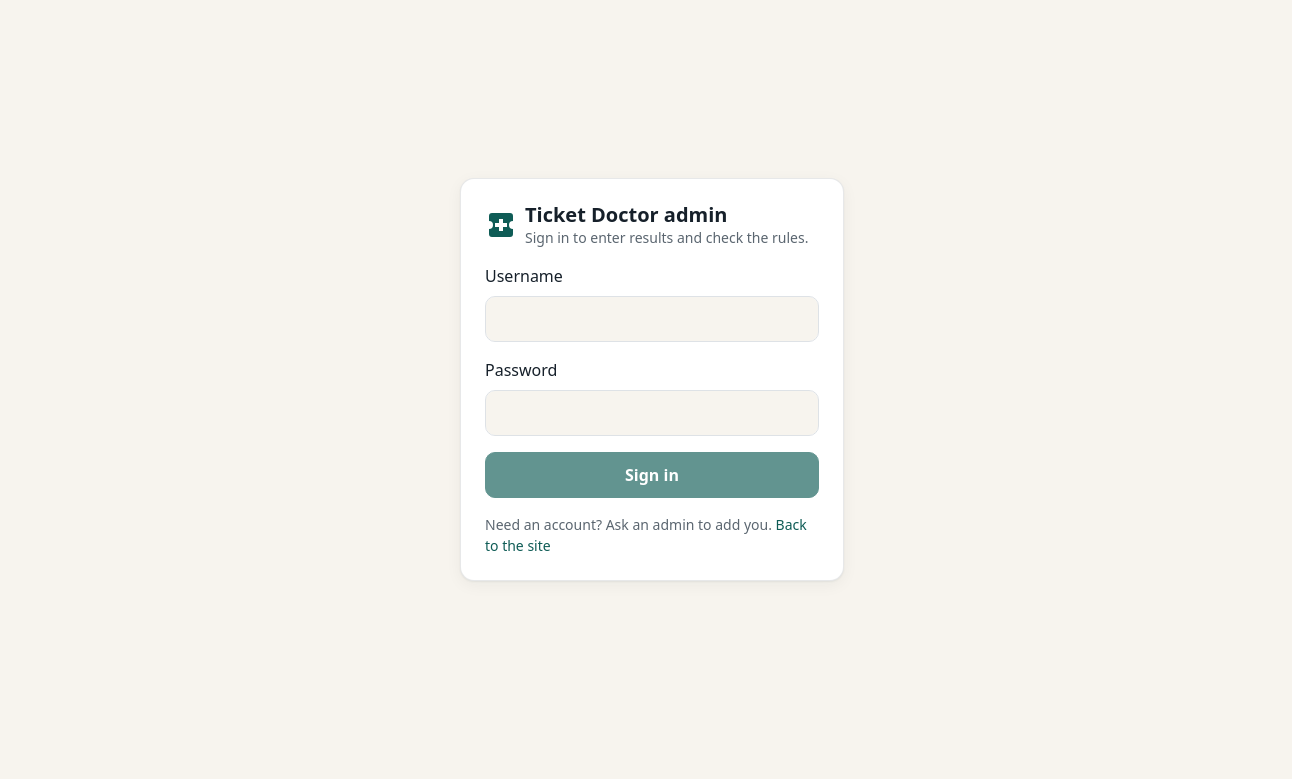
Test: Admin area (B6) › never follows a sign-in redirect off the admin area
Type "admin" into the field labelled "Username" at (652, 318), box x1=485 y1=296 x2=819 y2=342
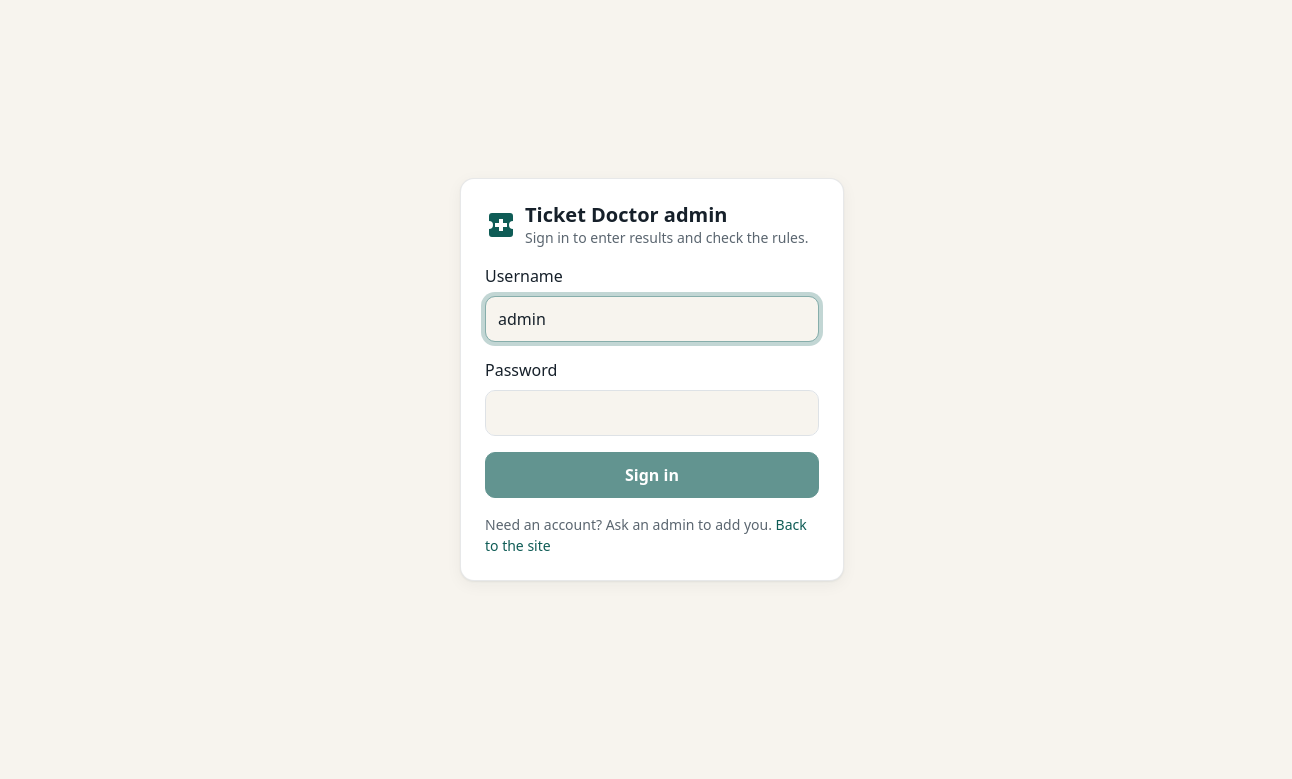
Type "mock password 123" into the password field labelled "Password" at (652, 412), box x1=485 y1=390 x2=819 y2=436
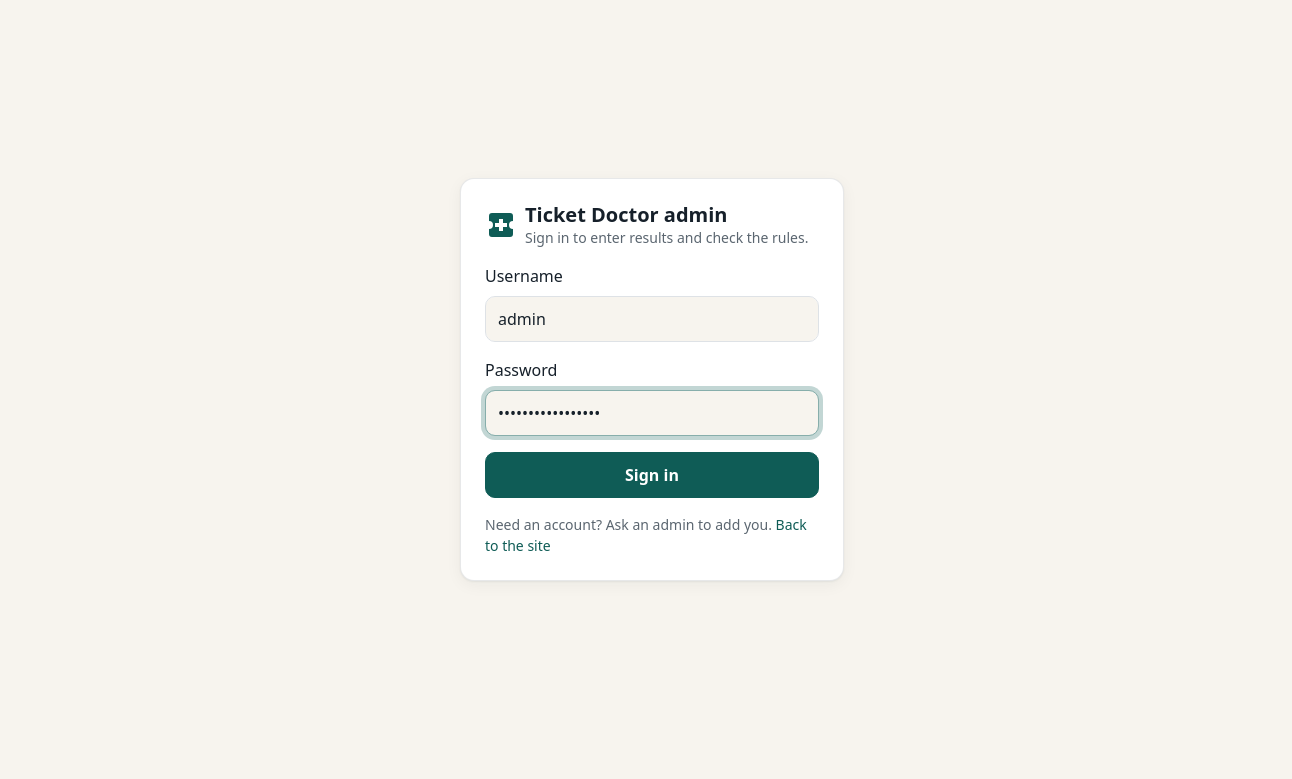
Click the button "Sign in" at (652, 474), box x1=485 y1=452 x2=819 y2=498
(page scrolled)
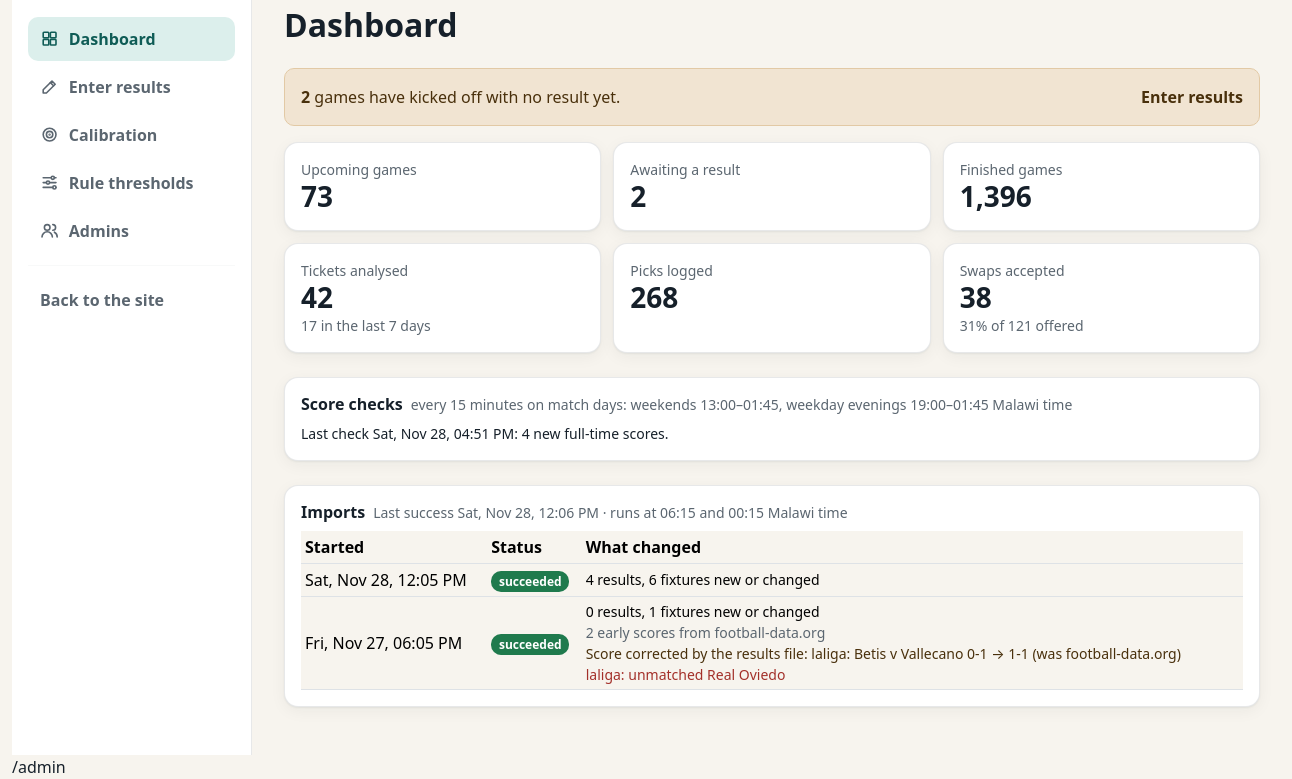
Check: the text with test id "location" reads "/admin", box x1=12 y1=756 x2=66 y2=778
